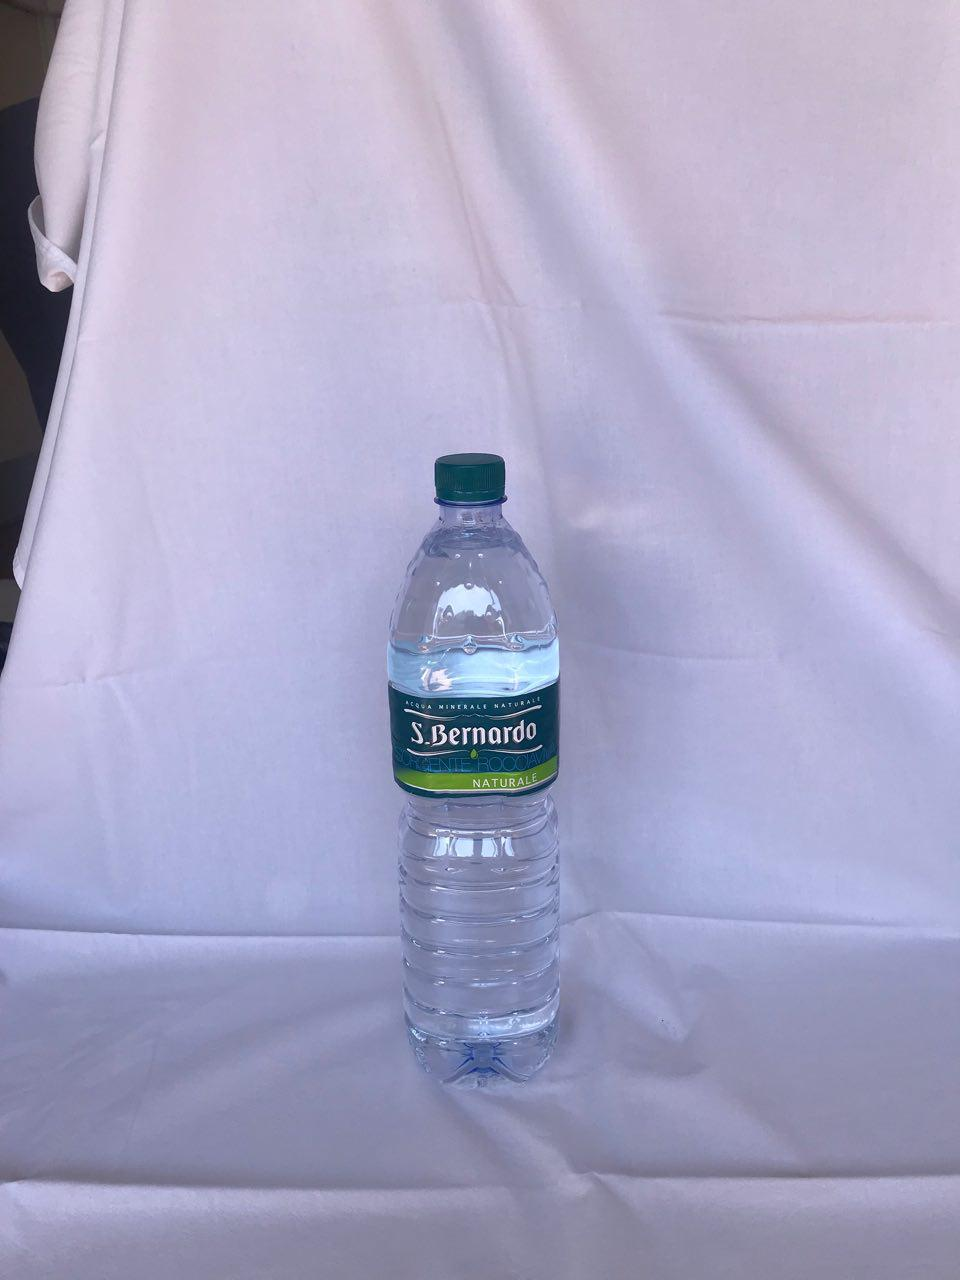san_bernardo: (384, 450, 561, 1094)
